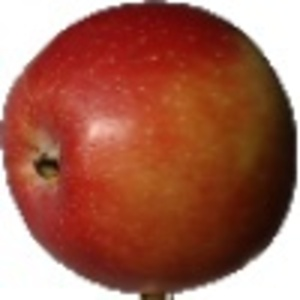maçã braeburn: (1, 4, 299, 297)
